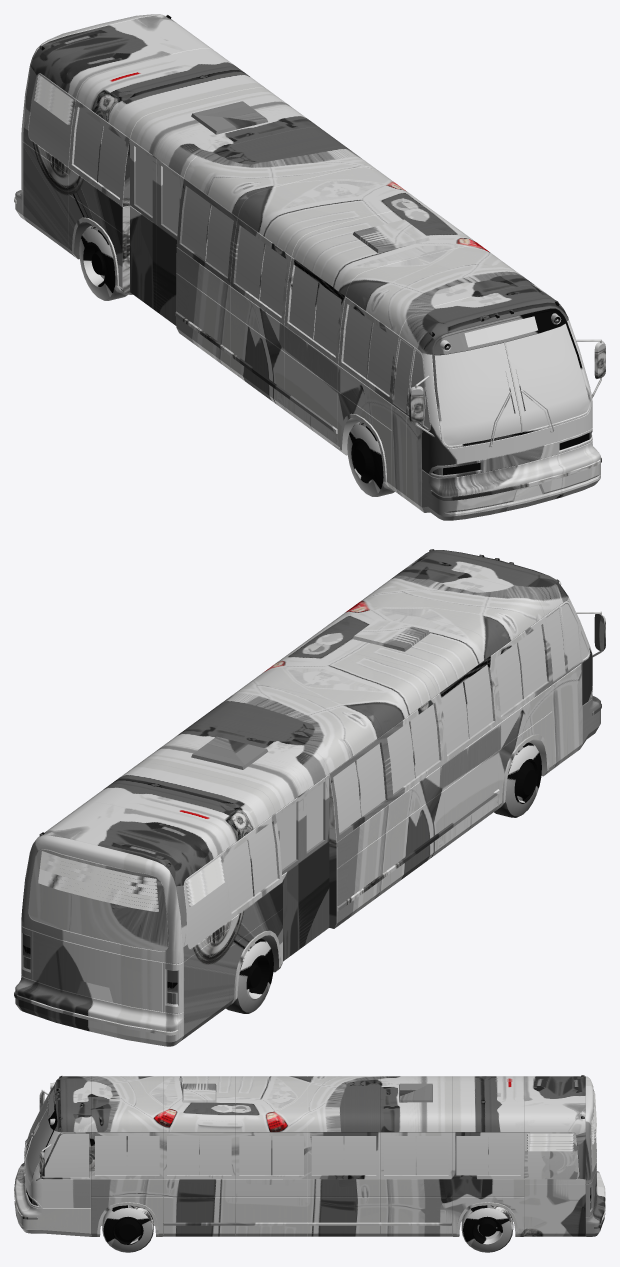
File: bus.fbx
3 views of the same model, one above another, from view 1: azimuth 30°, elevation 25°; view 2: azimuth 150°, elevation 25°; view 3: azimuth 270°, elevation 25° (orthographic). The views are drawn at different scales.
Visible parts, largest first — view 1: body3, T_B_R, T_F_R; view 2: body3, T_F_R, T_B_R; view 3: body3, T_B_L, T_F_L.
Part boxes in pixels (x1=…): body3: x1=14, y1=14, x2=605, y2=520; T_B_R: x1=79, y1=225, x2=132, y2=300; T_F_R: x1=347, y1=422, x2=394, y2=496; body3: x1=14, y1=549, x2=605, y2=1046; T_F_R: x1=494, y1=742, x2=541, y2=817; T_B_R: x1=226, y1=938, x2=273, y2=1013; body3: x1=14, y1=1075, x2=605, y2=1236; T_B_L: x1=461, y1=1205, x2=513, y2=1252; T_F_L: x1=102, y1=1205, x2=153, y2=1252.
Size of the model in its own units: 265 by 263 by 1040.
